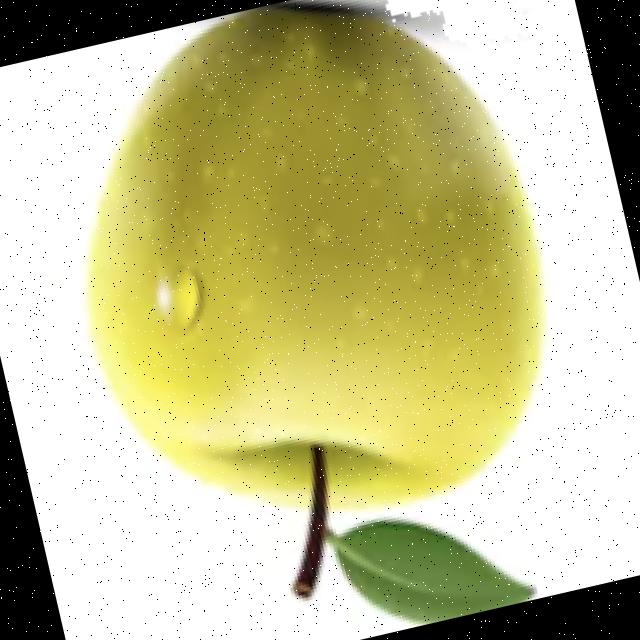apple: (80, 0, 548, 606)
